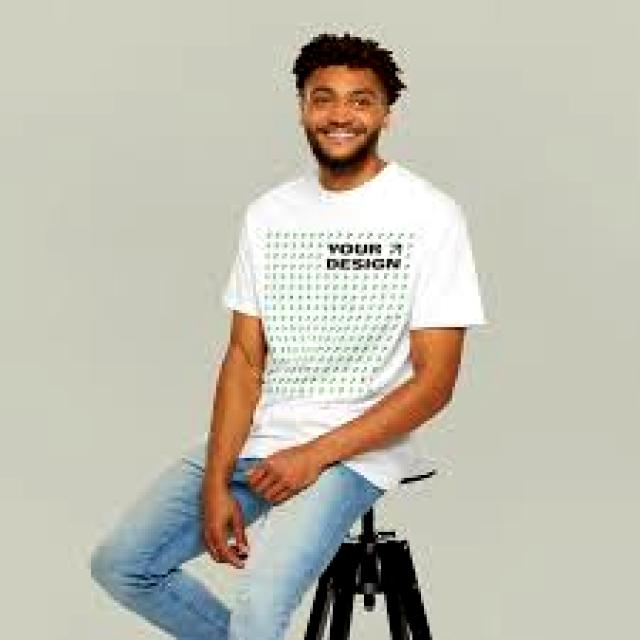face: (299, 66, 389, 173)
lower-wear: (92, 444, 383, 639)
top-wear: (222, 163, 486, 457)
